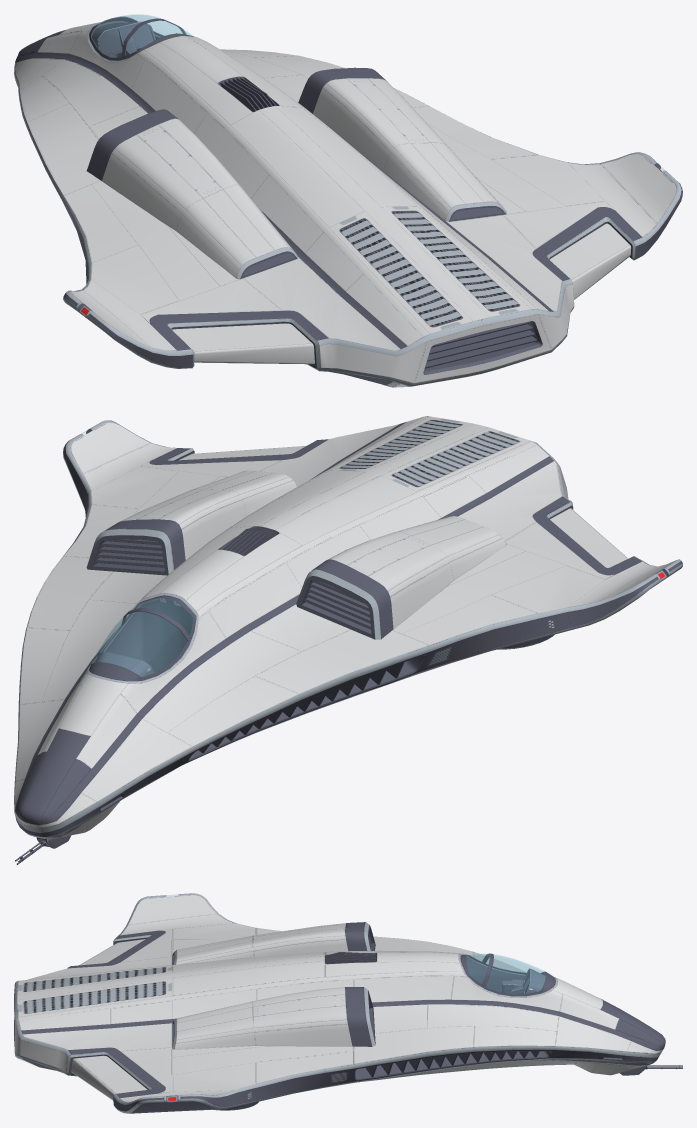
The model's file is Spaceship_Falabella_Body_1.FBX.
3 renders of one model, top to bottom at view 1: azimuth 30°, elevation 25°; view 2: azimuth 150°, elevation 25°; view 3: azimuth 270°, elevation 25°, orthographic. The views are drawn at different scales.
Parts seen in each view (by area): view 1: Spaceship_Falabella_Body_1, Reactor_Up_Left, Reactor_Up_Right, Cockpit_Glass, Cockpit_Panel; view 2: Spaceship_Falabella_Body_1, Reactor_Up_Left, Reactor_Up_Right, Cockpit_Glass, Cockpit_Panel; view 3: Spaceship_Falabella_Body_1, Reactor_Up_Right, Reactor_Up_Left, Cockpit_Glass, Cockpit_Panel, Glass_Int.
Part boxes in pixels (x1,y1,x2,y2): Spaceship_Falabella_Body_1: (14, 20, 682, 387); Reactor_Up_Left: (86, 109, 297, 279); Reactor_Up_Right: (298, 67, 506, 221); Cockpit_Glass: (89, 14, 193, 60); Cockpit_Panel: (92, 21, 155, 57); Spaceship_Falabella_Body_1: (14, 416, 682, 839); Reactor_Up_Left: (296, 516, 506, 639); Reactor_Up_Right: (86, 470, 297, 575); Cockpit_Glass: (89, 595, 196, 681); Cockpit_Panel: (95, 651, 154, 677); Spaceship_Falabella_Body_1: (14, 893, 665, 1113); Reactor_Up_Right: (172, 987, 375, 1049); Reactor_Up_Left: (172, 922, 375, 964); Cockpit_Glass: (460, 953, 555, 996); Cockpit_Panel: (502, 968, 545, 993); Glass_Int: (469, 954, 543, 973).
Bounding box in the file's own units: 12.81 × 3.44 × 17.68.
